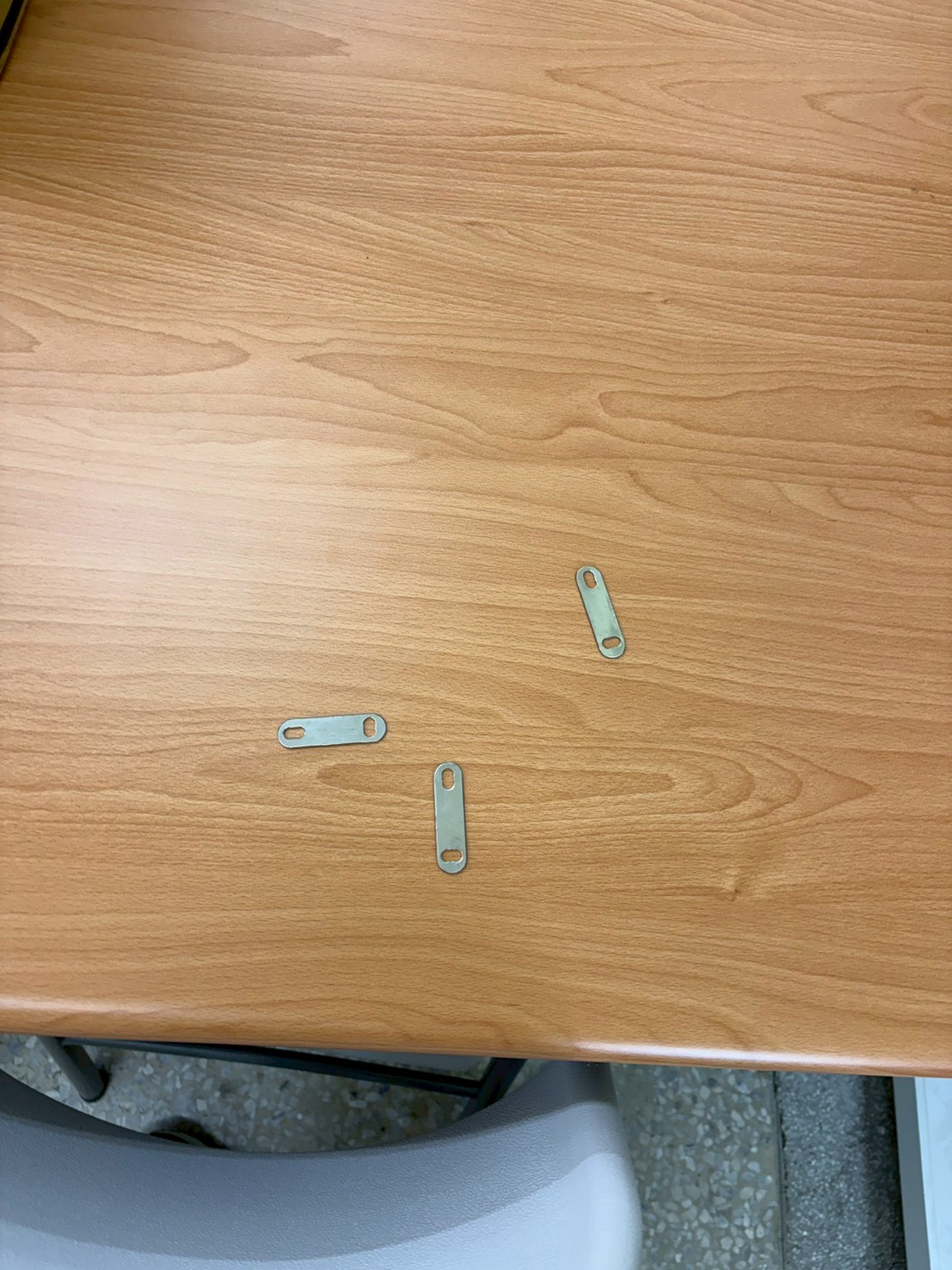Fe: (563, 554, 625, 657), (273, 703, 389, 749), (432, 755, 471, 871)
